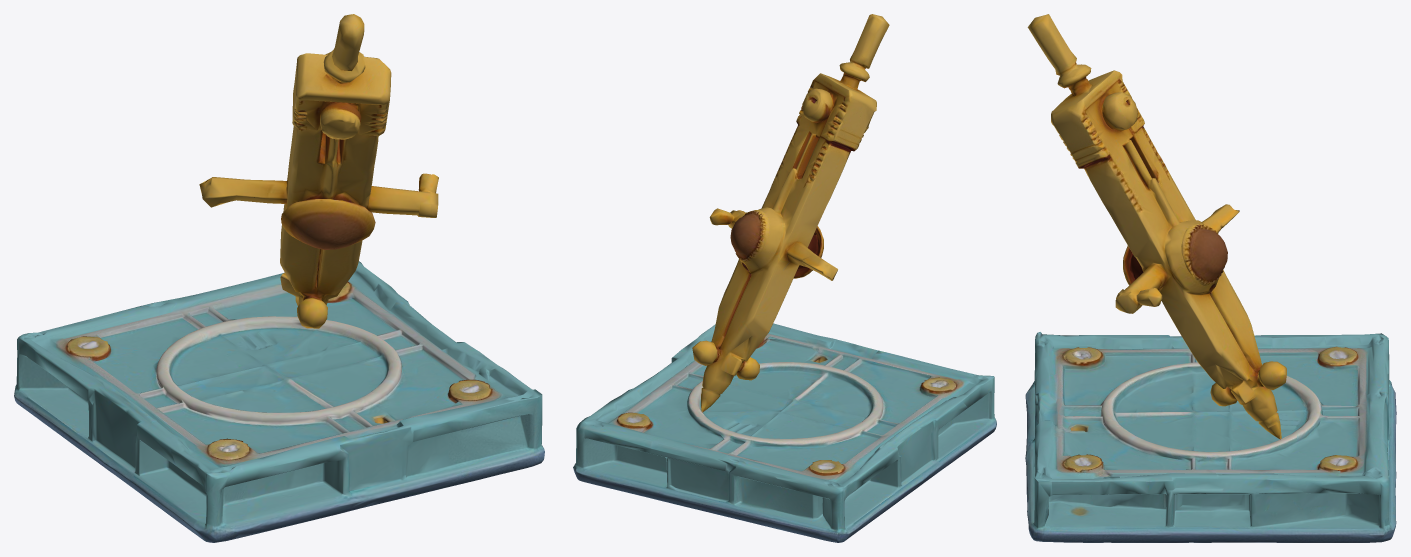
File: quadrature.glb
The picture shows the model from 3 angles, left to right: view 1: azimuth 30°, elevation 25°; view 2: azimuth 150°, elevation 25°; view 3: azimuth 270°, elevation 25°; orthographic projection. The views are drawn at different scales.
Visible parts, largest first — view 1: tripo_node_a9bd2edc-aac5-44aa-8902-0f5598321538; view 2: tripo_node_a9bd2edc-aac5-44aa-8902-0f5598321538; view 3: tripo_node_a9bd2edc-aac5-44aa-8902-0f5598321538.
Part boxes in pixels (x1,y1,x2,y2): tripo_node_a9bd2edc-aac5-44aa-8902-0f5598321538: (14, 14, 544, 542); tripo_node_a9bd2edc-aac5-44aa-8902-0f5598321538: (573, 14, 996, 542); tripo_node_a9bd2edc-aac5-44aa-8902-0f5598321538: (1025, 14, 1396, 542).
Bounding box in the file's own units: 0.7238 × 0.9791 × 0.7397.
Materials: 1 (1 with a texture image).
